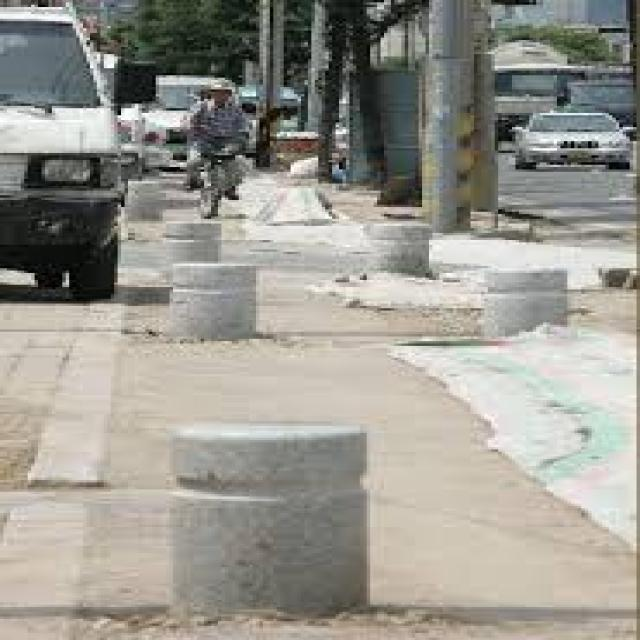bollard: (153, 419, 394, 627), (152, 257, 274, 348), (469, 264, 577, 344), (352, 218, 436, 289), (147, 215, 225, 264), (116, 175, 172, 224)
